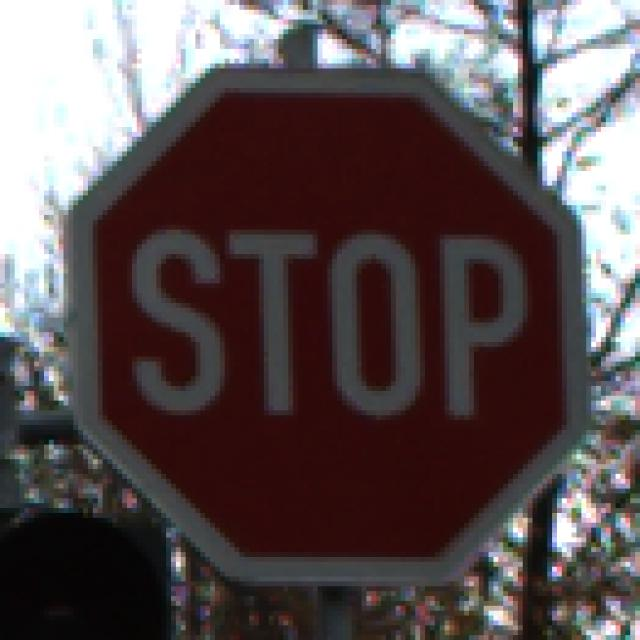STOP: (60, 55, 587, 587)
